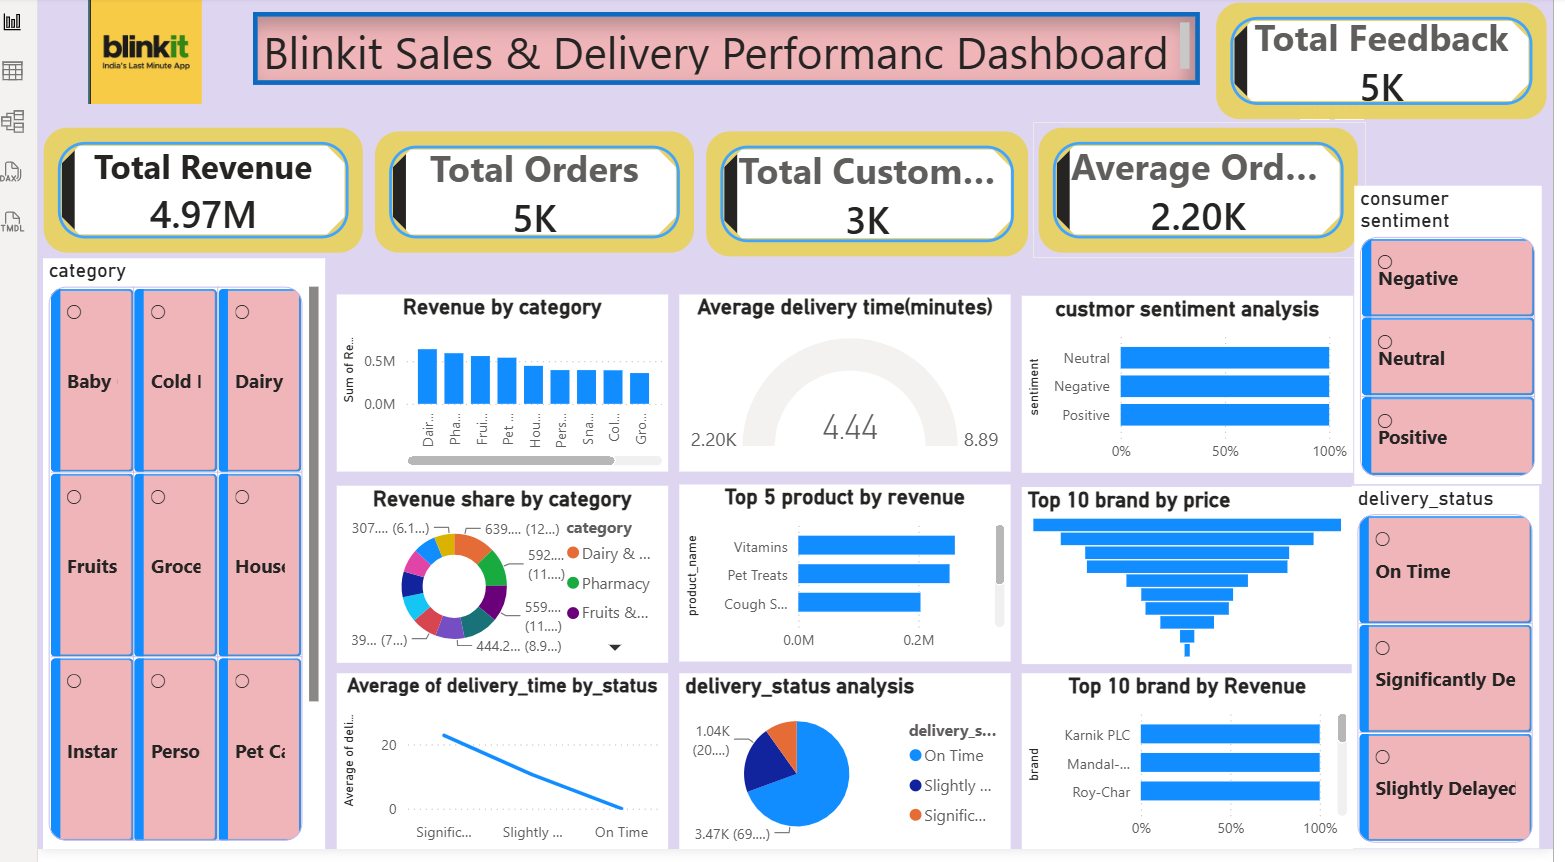

What the dashboard file says about the page in this screenshot:
{"tool":"powerbi","page":{"name":"Page 1","canvas":[1280,720],"ordinal":0},"visuals":[{"type":"cardVisual","fields":{"Data":["blinkit_order_items.Total Revenue"]},"box":[0,105.7,279.9,115.3],"z":0},{"type":"cardVisual","fields":{"Data":["blinkit_customer_feedback.Total Orders"]},"box":[279.9,108.4,279.9,112.5],"z":1000},{"type":"cardVisual","fields":{"Data":["blinkit_customer_feedback.Total Customers"]},"box":[559.9,108.4,282.7,115.3],"z":2000},{"type":"cardVisual","fields":{"Data":["blinkit_customer_feedback.Average Order Value"]},"box":[841.2,105.7,279.9,115.3],"z":3000},{"type":"clusteredColumnChart","title":" Revenue by category","fields":{"Category":["blinkit_products.category"],"Y":["Sum(blinkit_order_items.Revenue)"]},"box":[252.5,251.1,279.9,149.6],"z":4000},{"type":"clusteredBarChart","title":"Top 5 product by revenue","fields":{"Category":["blinkit_products.product_name"],"Y":["Sum(blinkit_order_items.Revenue)"]},"box":[542,411.7,279.9,149.6],"z":5000},{"type":"hundredPercentStackedBarChart","title":"Top 10 brand by Revenue ","fields":{"Category":["blinkit_products.brand"],"Y":["Sum(blinkit_order_items.Revenue)"]},"box":[831.6,570.8,279.9,149.6],"z":6000},{"type":"donutChart","title":"Revenue share by category","fields":{"Category":["blinkit_products.category"],"Y":["Sum(blinkit_order_items.Revenue)"]},"box":[252.5,413,279.9,149.6],"z":7000},{"type":"pieChart","title":" delivery_status analysis","fields":{"Y":["CountNonNull(blinkit_order_items.order_id)"],"Category":["blinkit_delivery_performance.delivery_status"]},"box":[542,570.8,279.9,149.6],"z":8000},{"type":"gauge","title":"  Average delivery time(minutes)","fields":{"Y":["Avg(blinkit_delivery_performance.delivery_time_minutes)"],"MinValue":["blinkit_customer_feedback.Average Order Value"]},"box":[542,251.1,279.9,149.6],"z":9000},{"type":"lineChart","title":"Average of delivery_time by_status","fields":{"Category":["blinkit_delivery_performance.delivery_status"],"Y":["Avg(blinkit_delivery_performance.delivery_time_minutes)"]},"box":[252.5,570.8,279.9,149.6],"z":10000},{"type":"advancedSlicerVisual","fields":{"Values":["blinkit_products.category"]},"box":[4.1,220.9,238.8,499.5],"z":11000},{"type":"textbox","box":[181.1,12.3,800,61.7],"z":12000},{"type":"image","box":[0,0,181.1,90.6],"z":13000},{"type":"funnel","title":"Top 10  brand by price","fields":{"Category":["blinkit_products.brand"],"Y":["Sum(blinkit_products.price)"]},"box":[831.6,414.4,279.9,149.6],"z":14000},{"type":"advancedSlicerVisual","fields":{"Values":["blinkit_delivery_performance.delivery_status"]},"box":[1110.4,413.4,158.2,306.5],"z":16000},{"type":"advancedSlicerVisual","title":" consumer sentiment","fields":{"Values":["blinkit_customer_feedback.sentiment"]},"box":[1111.8,159.6,158.2,252.3],"z":17000},{"type":"hundredPercentStackedBarChart","title":"custmor  sentiment analysis","fields":{"Category":["blinkit_customer_feedback.sentiment"],"Y":["Sum(blinkit_customer_feedback.feedback_id)"]},"box":[831.6,252.5,279.9,149.6],"z":18000},{"type":"cardVisual","fields":{"Data":["blinkit_customer_feedback.Total Feedback"]},"box":[990.6,0,289.4,108.3],"z":18001}]}

Visuals, with their boxes on the page's 1280x720 design canvas (x1, y1, x2, y2). These are canvas units, not pixel positions in the 1565x862 screenshot, which may show the page scaled, cropped or inside an application window:
cardVisual - blinkit_order_items.Total Revenue: Rect(0, 106, 280, 221)
cardVisual - blinkit_customer_feedback.Total Orders: Rect(280, 108, 560, 221)
cardVisual - blinkit_customer_feedback.Total Customers: Rect(560, 108, 843, 224)
cardVisual - blinkit_customer_feedback.Average Order Value: Rect(841, 106, 1121, 221)
" Revenue by category" clusteredColumnChart: Rect(252, 251, 532, 401)
"Top 5 product by revenue" clusteredBarChart: Rect(542, 412, 822, 561)
"Top 10 brand by Revenue " hundredPercentStackedBarChart: Rect(832, 571, 1112, 720)
"Revenue share by category" donutChart: Rect(252, 413, 532, 563)
" delivery_status analysis" pieChart: Rect(542, 571, 822, 720)
"  Average delivery time(minutes)" gauge: Rect(542, 251, 822, 401)
"Average of delivery_time by_status" lineChart: Rect(252, 571, 532, 720)
advancedSlicerVisual - blinkit_products.category: Rect(4, 221, 243, 720)
textbox: Rect(181, 12, 981, 74)
image: Rect(0, 0, 181, 91)
"Top 10  brand by price" funnel: Rect(832, 414, 1112, 564)
advancedSlicerVisual - blinkit_delivery_performance.delivery_status: Rect(1110, 413, 1269, 720)
" consumer sentiment" advancedSlicerVisual: Rect(1112, 160, 1270, 412)
"custmor  sentiment analysis" hundredPercentStackedBarChart: Rect(832, 252, 1112, 402)
cardVisual - blinkit_customer_feedback.Total Feedback: Rect(991, 0, 1280, 108)
